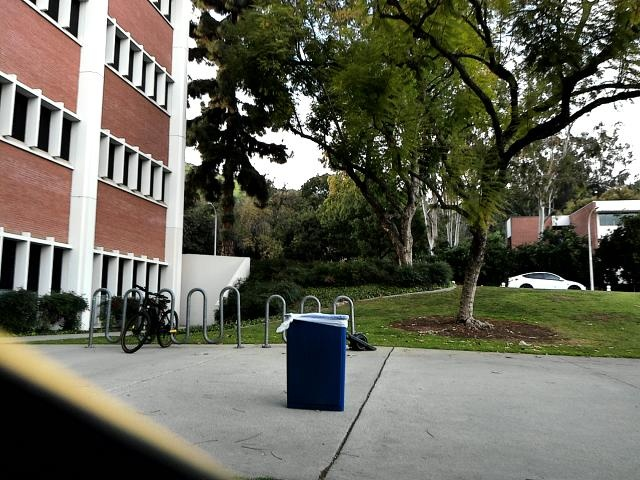trashcan_open: (278, 316, 351, 418)
